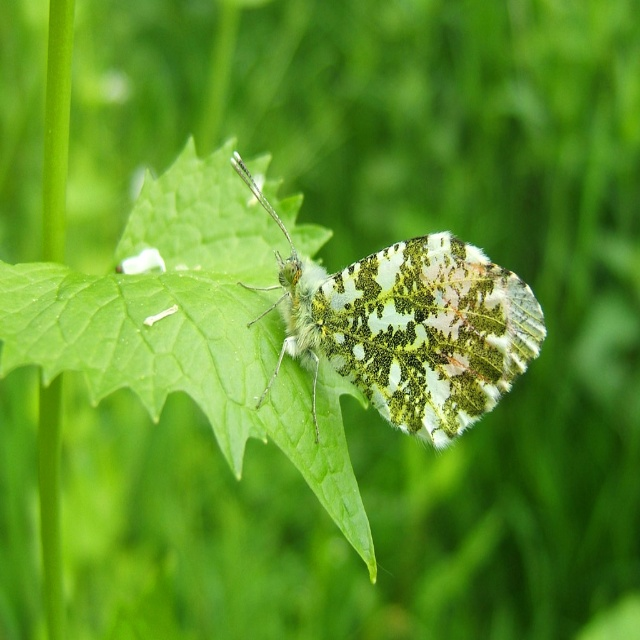Butterfly: (234, 146, 530, 461)
